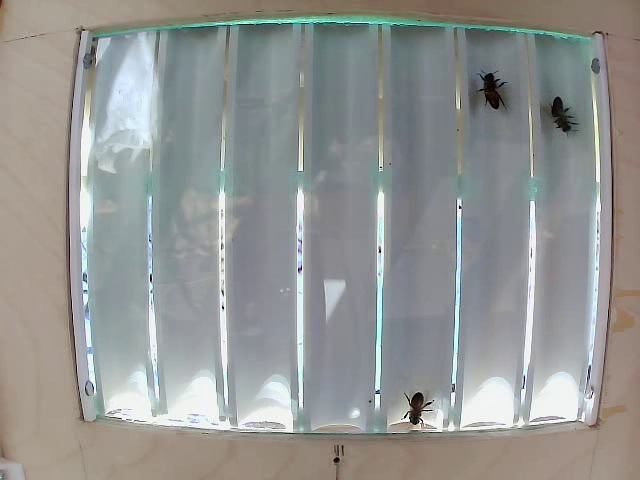bee: (466, 57, 514, 121), (543, 80, 576, 145), (395, 378, 438, 424)
